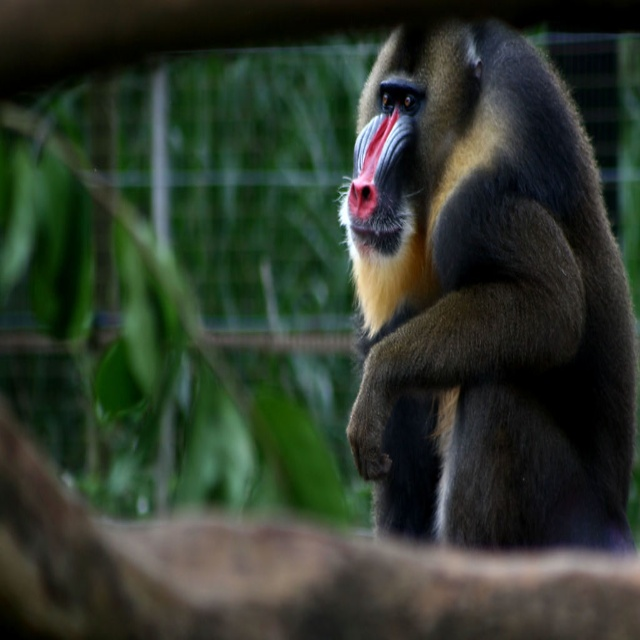Monkey: (337, 0, 638, 576)
